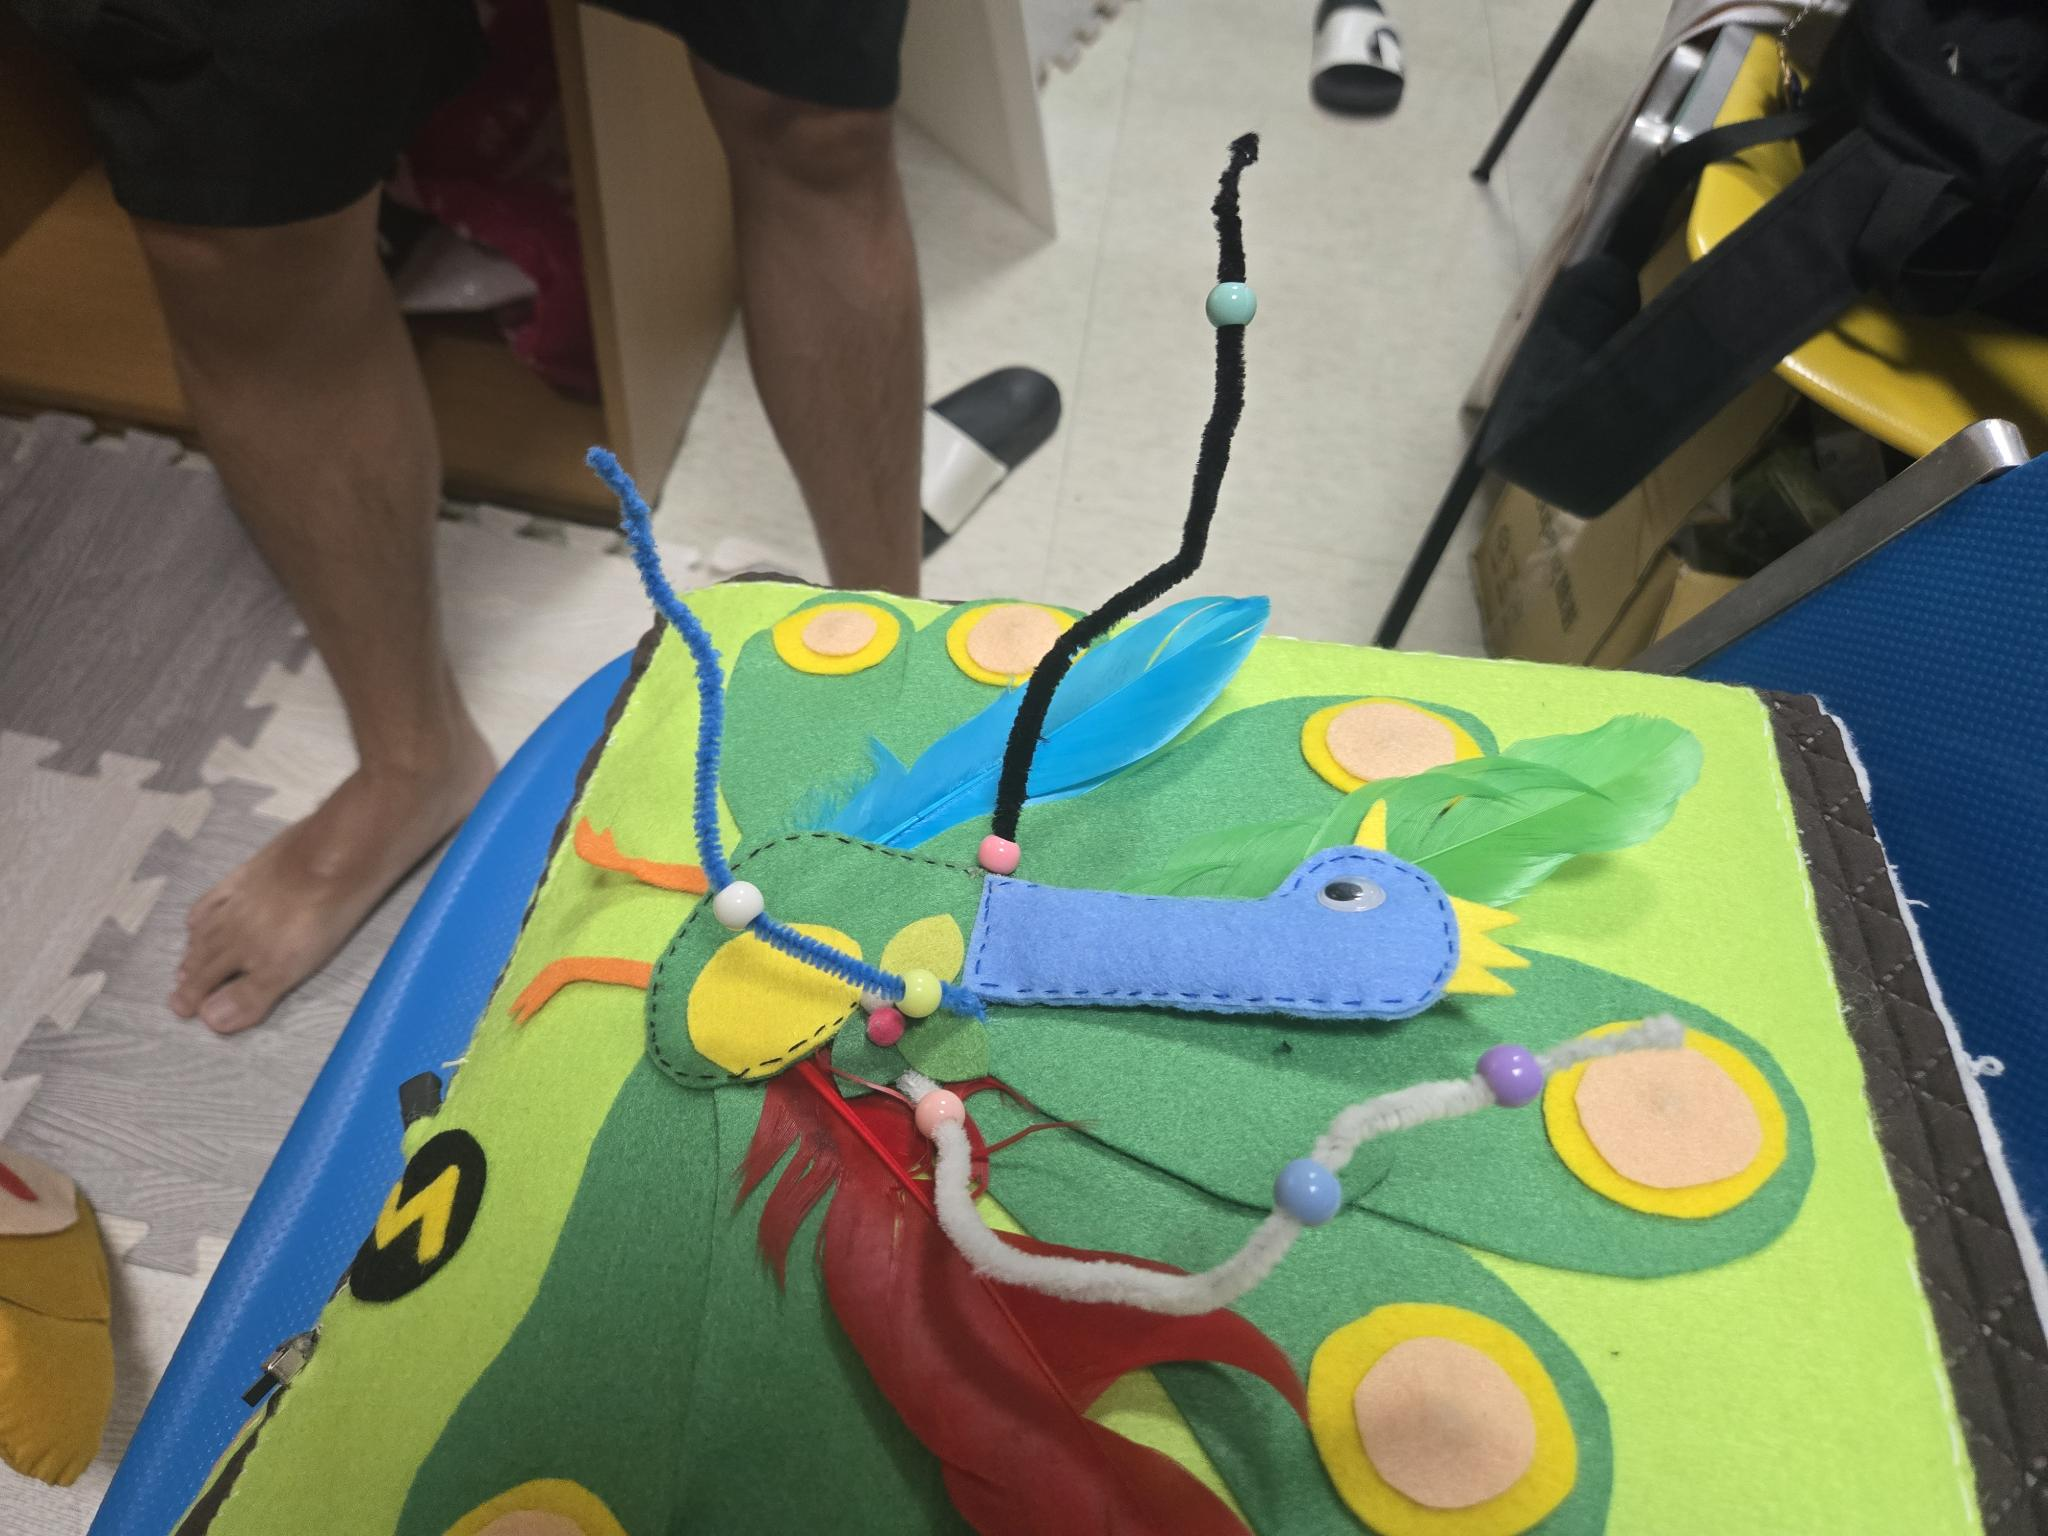bead: (1271, 1134, 1351, 1249), (706, 863, 772, 944), (1480, 1036, 1540, 1123), (885, 949, 950, 1028), (901, 1068, 966, 1141), (1198, 265, 1261, 337), (969, 821, 1029, 892)
